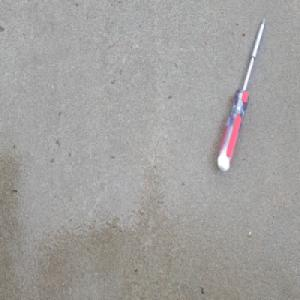Screwdriver: (214, 15, 265, 175)
